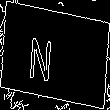N_N: (42, 27, 68, 83)
